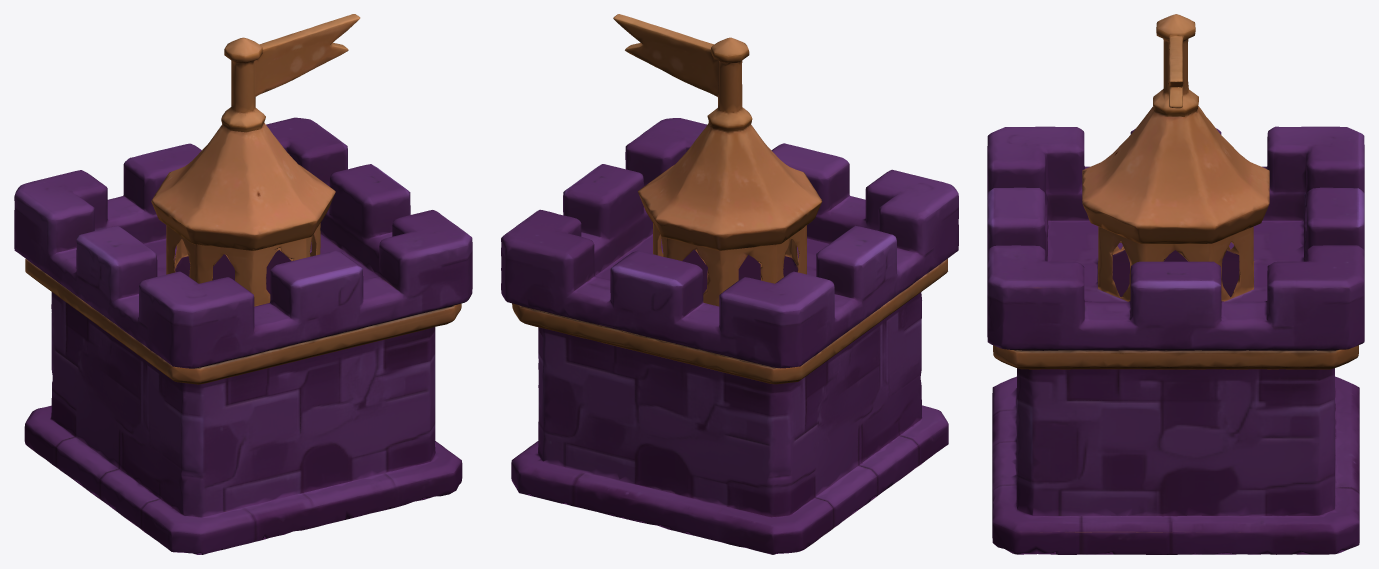
The model's file is arena_tower_t1.glb.
The picture shows the model from 3 angles, left to right: view 1: azimuth 30°, elevation 25°; view 2: azimuth 150°, elevation 25°; view 3: azimuth 270°, elevation 25°; orthographic projection. The views are drawn at different scales.
Parts seen in each view (by area): view 1: geometry_0; view 2: geometry_0; view 3: geometry_0.
Boxes of the visible parts, x1=… form: geometry_0: x1=14, y1=14, x2=472, y2=554; geometry_0: x1=501, y1=14, x2=958, y2=554; geometry_0: x1=987, y1=14, x2=1364, y2=554.
Size of the model in its own units: 0.738 by 0.9998 by 0.7381.
Materials: 1 (1 with a texture image).
